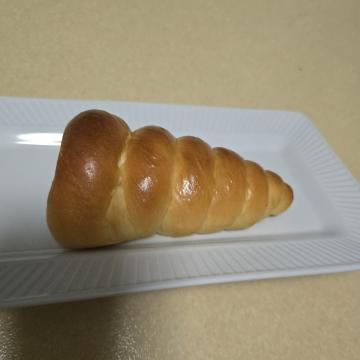cream horn: (97, 53, 277, 326)
